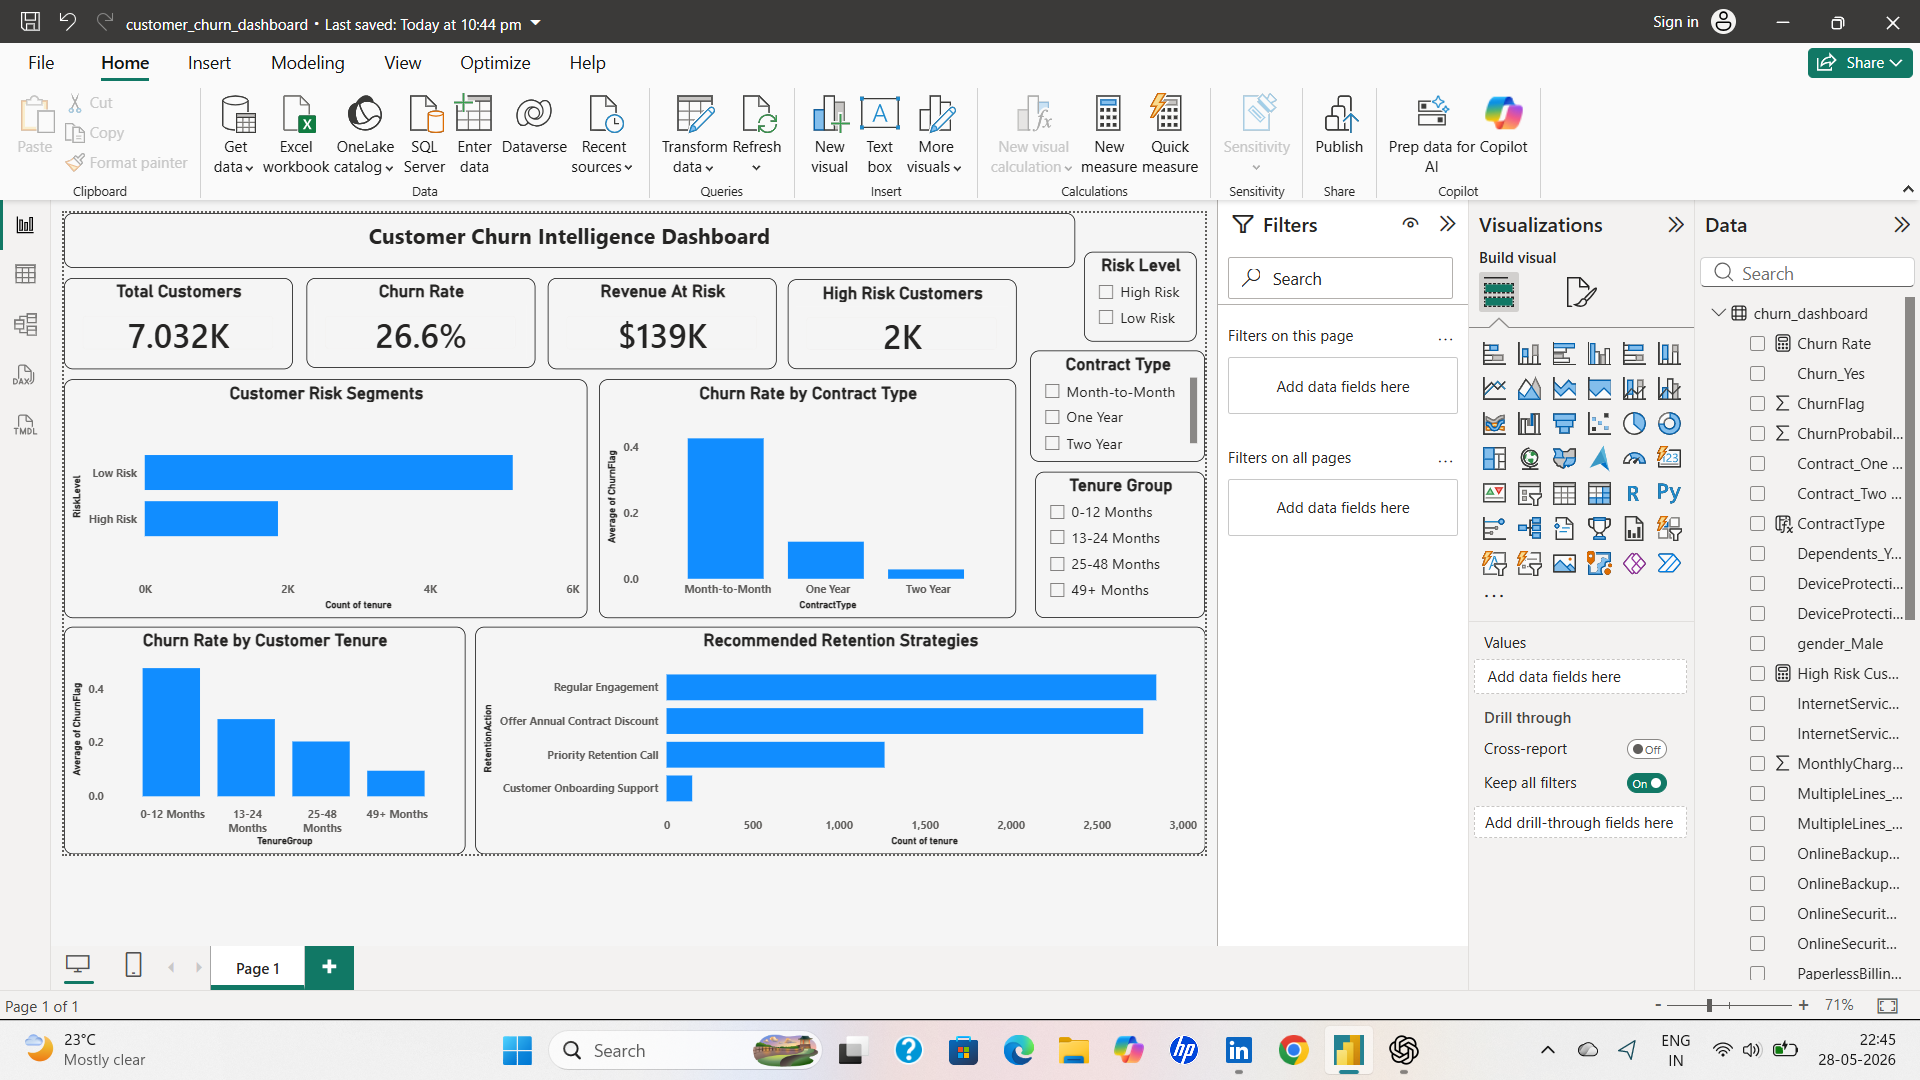

What the dashboard file says about the page in this screenshot:
{"tool":"powerbi","page":{"name":"Page 1","canvas":[1280,720],"ordinal":0},"visuals":[{"type":"cardVisual","title":"Total Customers","fields":{"Data":["CountNonNull(churn_dashboard.tenure)"]},"box":[0,72.9,256.6,102.4],"z":0},{"type":"cardVisual","title":"Churn Rate","fields":{"Data":["churn_dashboard.Churn Rate"]},"box":[272,72.9,256.6,101],"z":1000},{"type":"cardVisual","title":"Revenue At Risk","fields":{"Data":["churn_dashboard.Revenue At Risk"]},"box":[542.7,72.9,256.6,102.4],"z":2000},{"type":"cardVisual","title":"High Risk Customers","fields":{"Data":["churn_dashboard.High Risk Customers"]},"box":[811.9,74.3,256.6,101],"z":3000},{"type":"clusteredBarChart","title":"Customer Risk Segments","fields":{"Category":["churn_dashboard.RiskLevel"],"Y":["CountNonNull(churn_dashboard.tenure)"]},"box":[0,186.5,587.6,267.8],"z":4000},{"type":"clusteredColumnChart","title":"Churn Rate by Contract Type","fields":{"Category":["churn_dashboard.ContractType"],"Y":["Avg(churn_dashboard.ChurnFlag)"]},"box":[600.2,186.5,468.4,267.8],"z":5000},{"type":"clusteredColumnChart","title":"Churn Rate by Customer Tenure","fields":{"Category":["churn_dashboard.TenureGroup"],"Y":["Avg(churn_dashboard.ChurnFlag)"]},"box":[0,464.2,450.1,255.2],"z":6000},{"type":"clusteredBarChart","title":"Recommended Retention Strategies","fields":{"Category":["churn_dashboard.RetentionAction"],"Y":["CountNonNull(churn_dashboard.tenure)"]},"box":[461.3,464.2,818.9,255.2],"z":7000},{"type":"slicer","title":"Risk Level","fields":{"Values":["churn_dashboard.RiskLevel"]},"box":[1144.3,43.5,126.2,101],"z":8000},{"type":"slicer","title":"Contract Type ","fields":{"Values":["churn_dashboard.ContractType"]},"box":[1084,154.3,196.3,124.8],"z":9000},{"type":"slicer","title":"Tenure Group","fields":{"Values":["churn_dashboard.TenureGroup"]},"box":[1089.6,290.3,190.7,164.1],"z":10000},{"type":"textbox","box":[0,0,1134.4,61.7],"z":11000}]}

Visuals, with their boxes on the page's 1280x720 design canvas (x1, y1, x2, y2). These are canvas units, not pixel positions in the 1920x1080 screenshot, which may show the page scaled, cropped or inside an application window:
"Total Customers" cardVisual: BBox(0, 73, 257, 175)
"Churn Rate" cardVisual: BBox(272, 73, 529, 174)
"Revenue At Risk" cardVisual: BBox(543, 73, 799, 175)
"High Risk Customers" cardVisual: BBox(812, 74, 1068, 175)
"Customer Risk Segments" clusteredBarChart: BBox(0, 186, 588, 454)
"Churn Rate by Contract Type" clusteredColumnChart: BBox(600, 186, 1069, 454)
"Churn Rate by Customer Tenure" clusteredColumnChart: BBox(0, 464, 450, 719)
"Recommended Retention Strategies" clusteredBarChart: BBox(461, 464, 1280, 719)
"Risk Level" slicer: BBox(1144, 44, 1270, 144)
"Contract Type " slicer: BBox(1084, 154, 1280, 279)
"Tenure Group" slicer: BBox(1090, 290, 1280, 454)
textbox: BBox(0, 0, 1134, 62)
